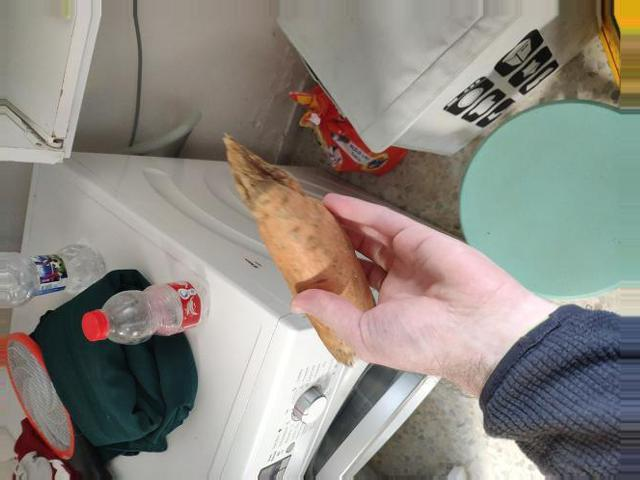sweet_potato: (258, 191, 368, 328)
